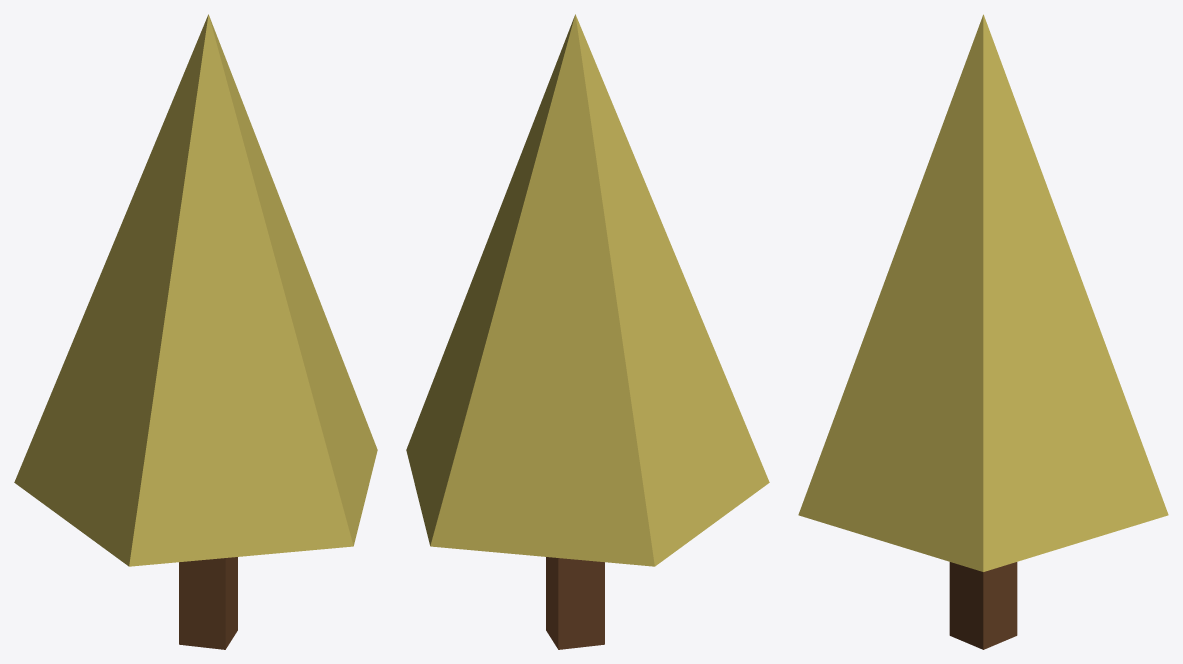
Rendered from SM_PineFar_Y.glb.
The picture shows the model from 3 angles, left to right: view 1: azimuth 30°, elevation 25°; view 2: azimuth 150°, elevation 25°; view 3: azimuth 270°, elevation 25°; orthographic projection.
Parts seen in each view (by area): view 1: SM_PineFar_Y; view 2: SM_PineFar_Y; view 3: SM_PineFar_Y.
Part boxes in pixels (<box>): SM_PineFar_Y: <box>14,14,377,649</box>; SM_PineFar_Y: <box>406,14,769,649</box>; SM_PineFar_Y: <box>798,14,1168,649</box>.
Size of the model in its own units: 4.16 by 8.1 by 4.37.
Materials: 1 (1 with a texture image).
